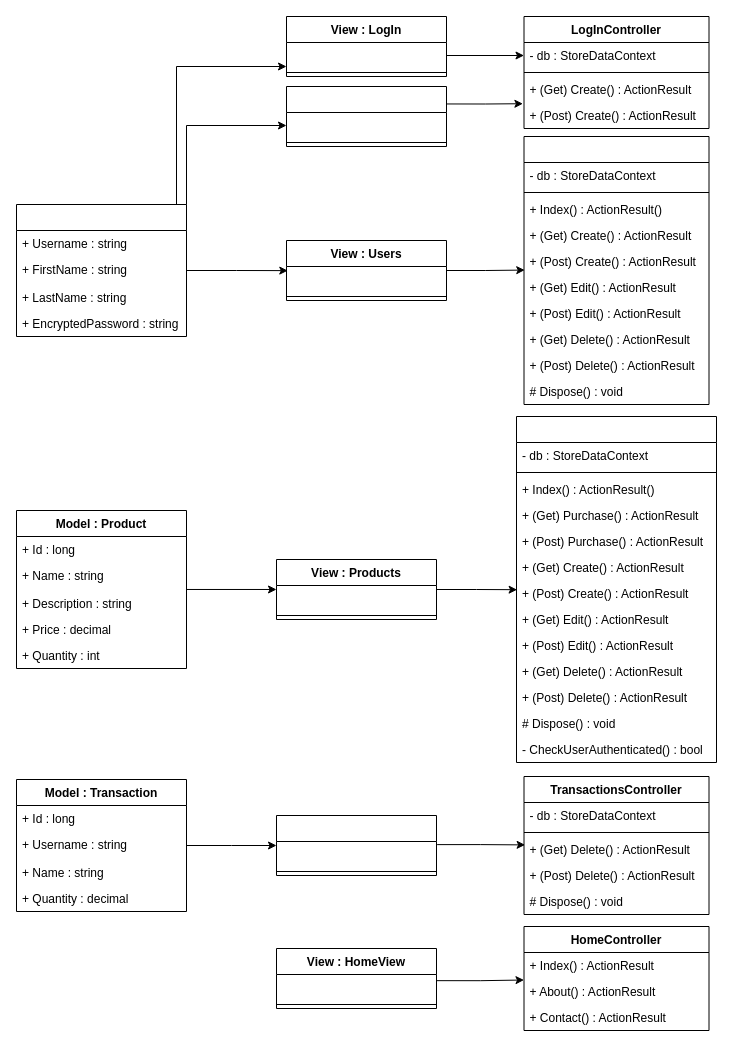
This 733x1047 diagram has some shape labels left out. The shapes that lost their labels are listed below. From the top down, each one's box as (x1, y1, x2, y2) in pixels, then its label:
(286, 86, 446, 146): View : LogOut
(16, 204, 186, 336): Model : User
(523, 136, 709, 404): UsersController
(516, 416, 716, 762): ProductsController
(276, 814, 436, 876): View : Transactions
